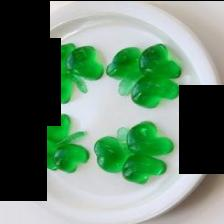green: (96, 123, 168, 182), (119, 43, 184, 100), (37, 44, 101, 94), (34, 116, 86, 170)
